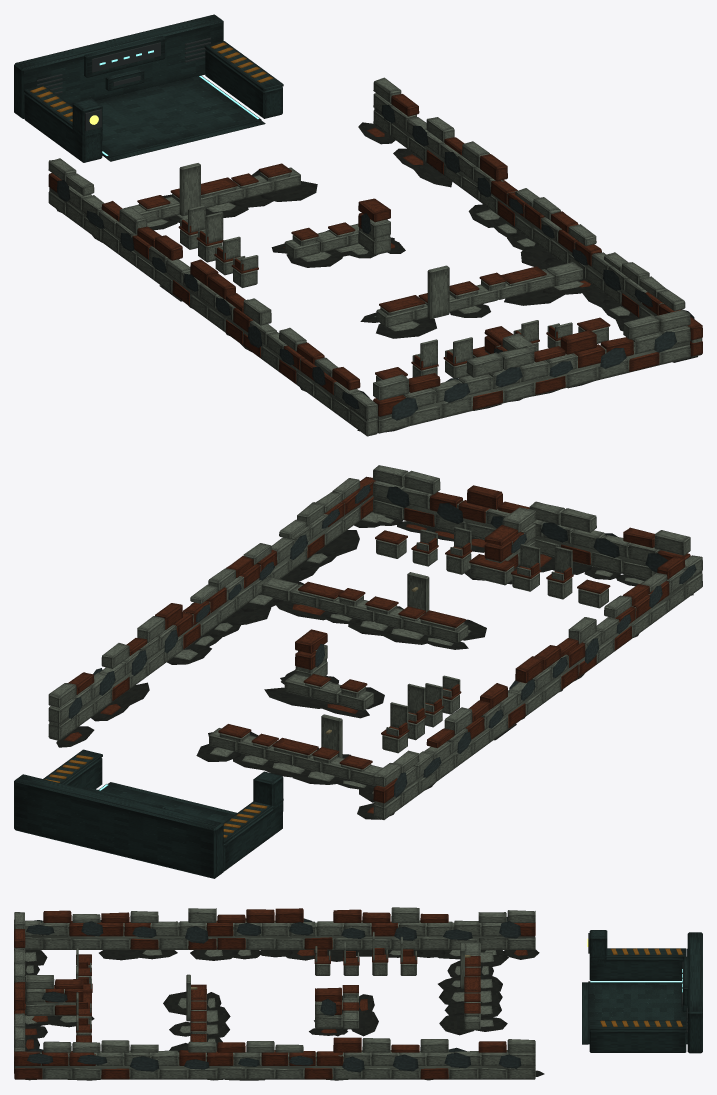
Rendered from ExcavationDepot_5x11.fbx.
3 views of the same model, one above another, from view 1: azimuth 30°, elevation 25°; view 2: azimuth 150°, elevation 25°; view 3: azimuth 270°, elevation 25° (orthographic). The views are drawn at different scales.
Parts seen in each view (by area): view 1: THStage_ExtractionBay.029, THStage_WestBoundary.029, THStage_BackBoundary.029, THStage_EastBoundary.029, THStage_RuinGroundFragments.018, THStage_RearPartition.029, THStage_EntryPartition.029, THStage_CentralReturn.023, THStage_FindSupport_07.009, THStage_CentralCrosswall.023, THStage_FindSupport_02.009, THStage_FindSupport_21.009 (+6 smaller); view 2: THStage_ExtractionBay.029, THStage_WestBoundary.029, THStage_EastBoundary.029, THStage_RuinGroundFragments.018, THStage_BackBoundary.029, THStage_RearPartition.029, THStage_EntryPartition.029, THStage_RearRoomDivider.029, THStage_CentralReturn.023, THStage_CentralCrosswall.023, THStage_FindSupport_02.009, THStage_FindSupport_07.009 (+11 smaller); view 3: THStage_EastBoundary.029, THStage_WestBoundary.029, THStage_ExtractionBay.029, THStage_RuinGroundFragments.018, THStage_RearRoomDivider.029, THStage_BackBoundary.029, THStage_CentralReturn.023, THStage_FindSupport_21.009, THStage_FindSupport_20.009, THStage_EntryPartition.029, THStage_FindSupport_23.009, THStage_FindSupport_22.009 (+7 smaller).
Part boxes in pixels (x1,y1,x2,y2): THStage_ExtractionBay.029: (14, 14, 283, 162); THStage_WestBoundary.029: (48, 158, 377, 436); THStage_BackBoundary.029: (373, 309, 690, 433); THStage_EastBoundary.029: (373, 77, 702, 357); THStage_RuinGroundFragments.018: (56, 122, 697, 433); THStage_RearPartition.029: (376, 262, 582, 327); THStage_EntryPartition.029: (124, 167, 300, 222); THStage_CentralReturn.023: (358, 198, 390, 255); THStage_FindSupport_07.009: (418, 265, 449, 319); THStage_CentralCrosswall.023: (284, 223, 358, 258); THStage_FindSupport_02.009: (170, 163, 200, 216); THStage_FindSupport_21.009: (196, 212, 223, 262); THStage_ExtractionBay.029: (14, 749, 283, 878); THStage_WestBoundary.029: (373, 555, 702, 819); THStage_EastBoundary.029: (48, 476, 375, 740); THStage_RuinGroundFragments.018: (56, 511, 693, 819); THStage_BackBoundary.029: (373, 465, 690, 579); THStage_RearPartition.029: (261, 577, 468, 642); THStage_EntryPartition.029: (209, 728, 382, 785); THStage_RearRoomDivider.029: (484, 507, 536, 568); THStage_CentralReturn.023: (295, 629, 327, 676); THStage_CentralCrosswall.023: (284, 674, 373, 710); THStage_FindSupport_02.009: (312, 714, 342, 772); THStage_FindSupport_07.009: (398, 572, 429, 628); THStage_EastBoundary.029: (14, 1037, 535, 1079); THStage_WestBoundary.029: (25, 907, 535, 949); THStage_ExtractionBay.029: (582, 930, 702, 1053); THStage_RuinGroundFragments.018: (25, 949, 544, 1080); THStage_RearRoomDivider.029: (25, 975, 83, 1015); THStage_BackBoundary.029: (14, 912, 25, 1073); THStage_CentralReturn.023: (315, 987, 341, 1028); THStage_FindSupport_21.009: (372, 931, 388, 975); THStage_FindSupport_20.009: (400, 936, 417, 975); THStage_EntryPartition.029: (464, 942, 480, 1029); THStage_FindSupport_23.009: (314, 946, 330, 975); THStage_FindSupport_22.009: (343, 941, 359, 975).
Bounding box in the file's own units: 5 × 0.76 × 10.82.
4 materials, 1 textured.
